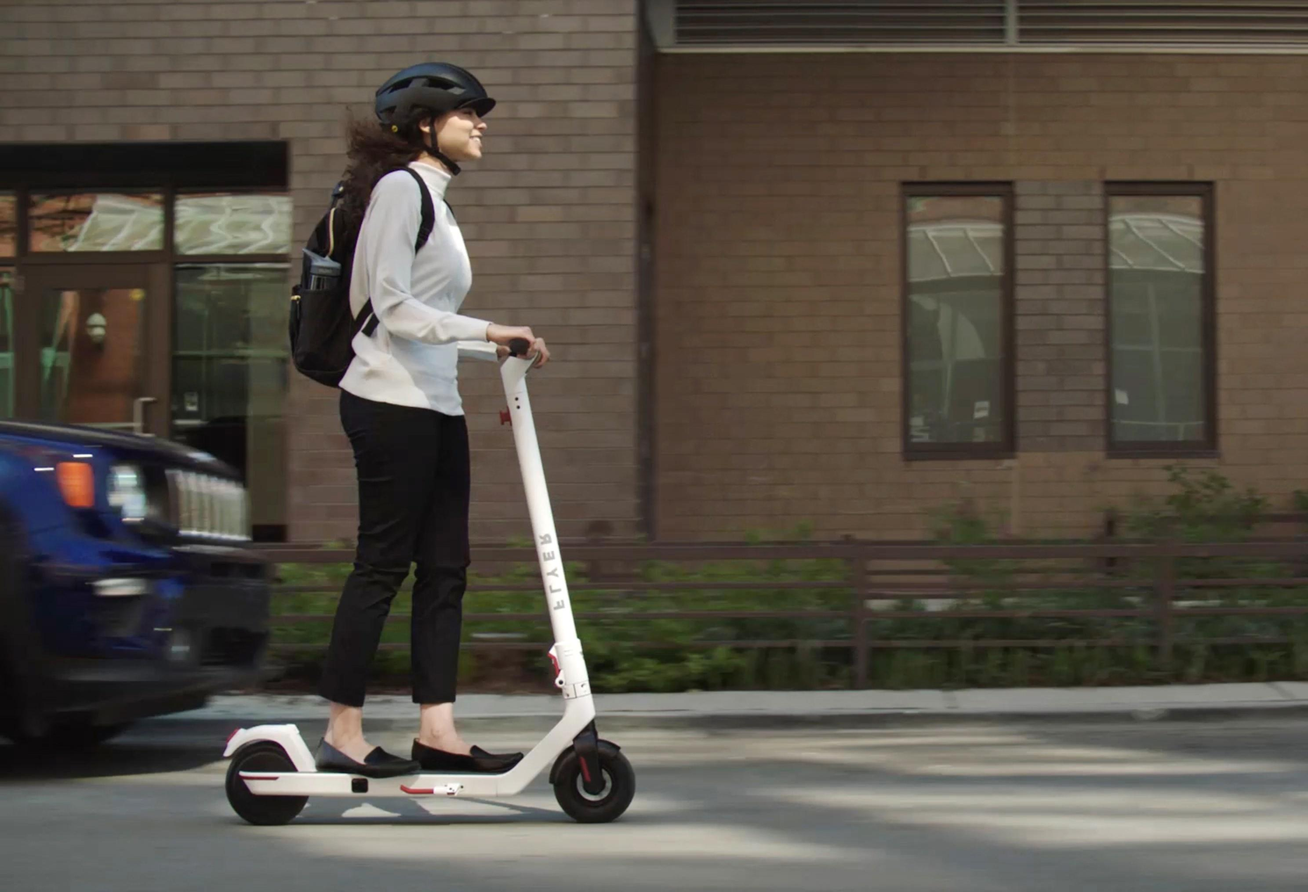helmet: (364, 60, 498, 177)
human: (305, 62, 551, 767)
kickboard: (219, 736, 636, 831)
